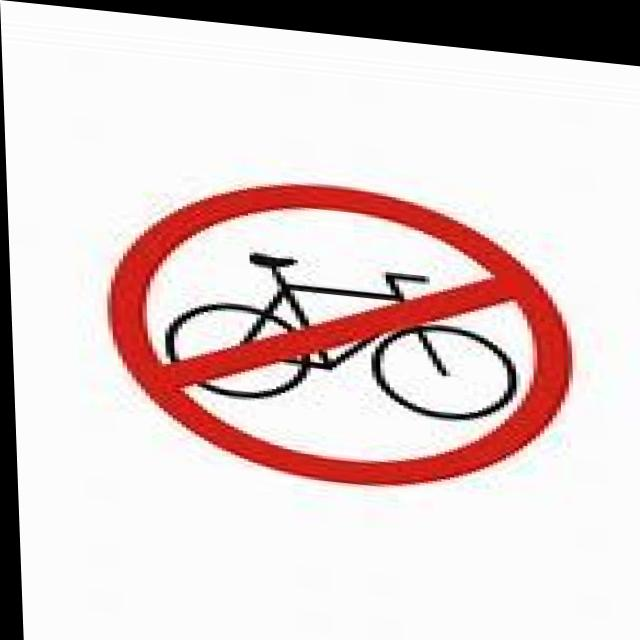CYCLE_PROHIBITED: (93, 153, 578, 500)
